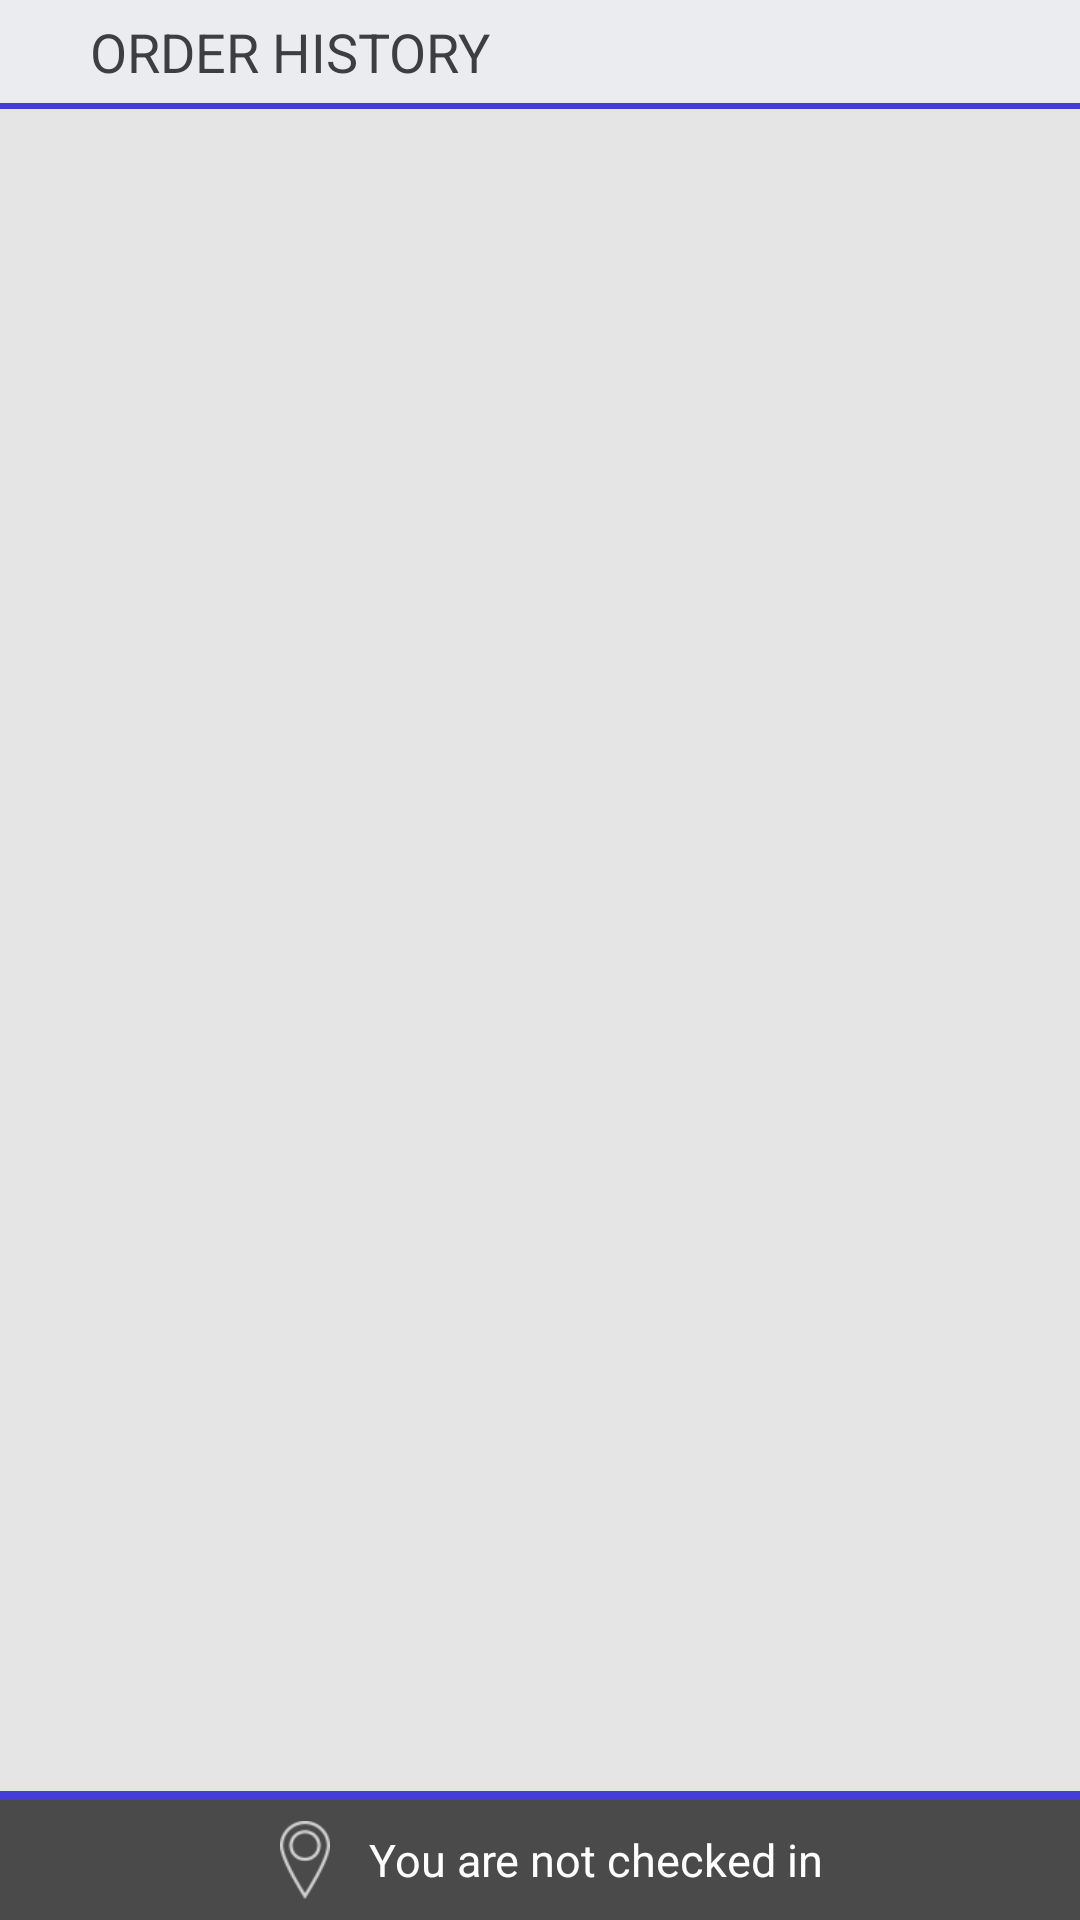

Named icons in this screenshot (1080x1920) and their centers, (x,y):
drawer select venue: (305,1860)
